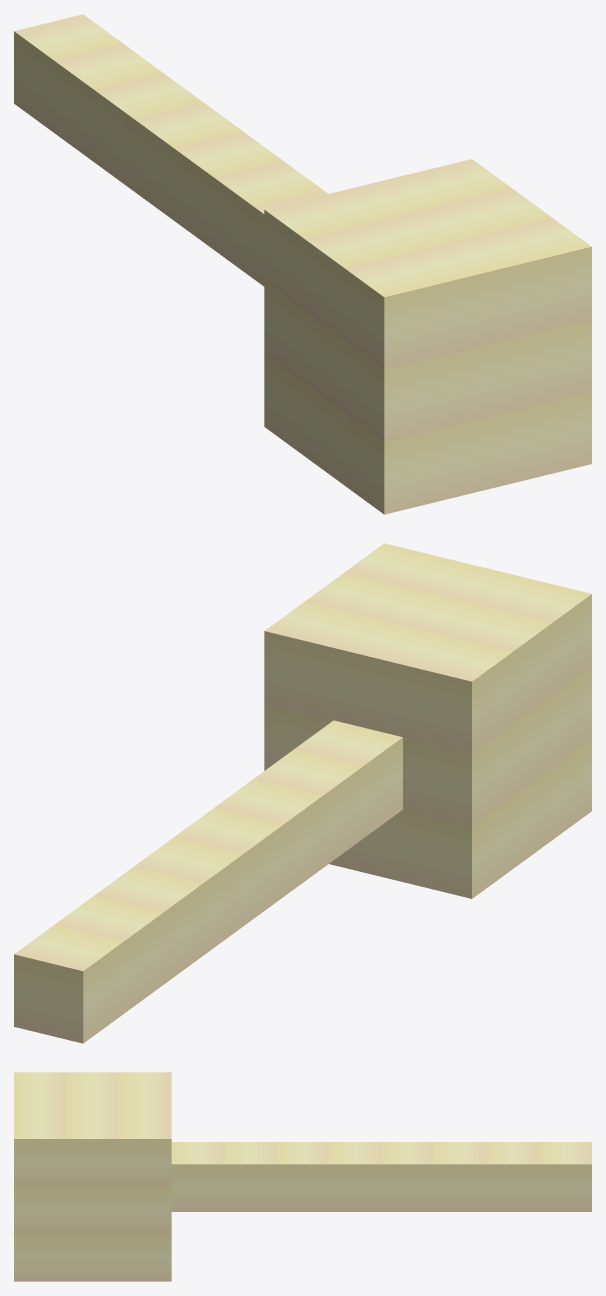
The model's file is Scale Arrow.obj.
The picture shows the model from 3 angles, top to bottom: view 1: azimuth 30°, elevation 25°; view 2: azimuth 150°, elevation 25°; view 3: azimuth 270°, elevation 25°; orthographic projection. The views are drawn at different scales.
Visible parts, largest first — view 1: ScaleArrow; view 2: ScaleArrow; view 3: ScaleArrow.
Part boxes in pixels (x1,y1,x2,y2): ScaleArrow: [14, 14, 591, 514]; ScaleArrow: [14, 543, 591, 1043]; ScaleArrow: [14, 1072, 591, 1281].
Bounding box in the file's own units: 3 × 3 × 11.
Materials: 1 (1 with a texture image).
